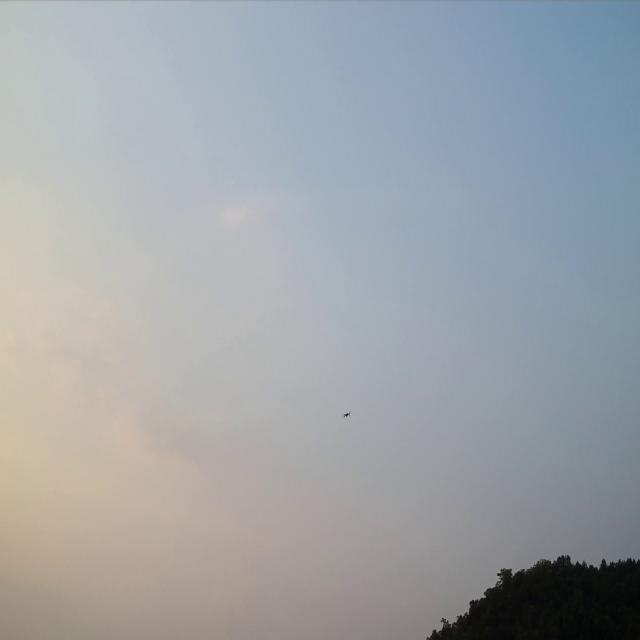drone: (344, 410, 352, 418)
